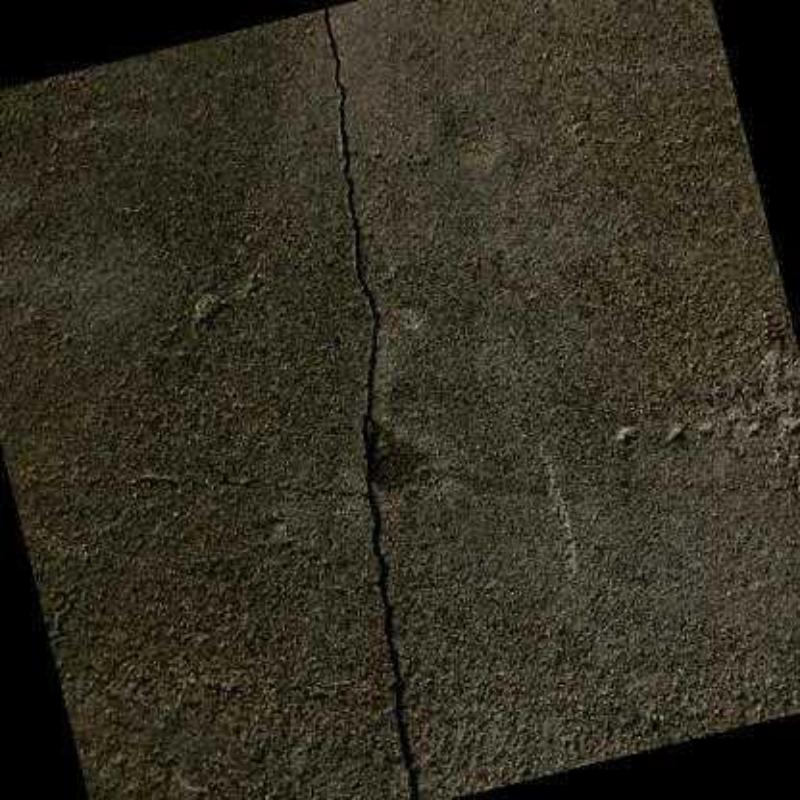pothole: (324, 6, 420, 798)
